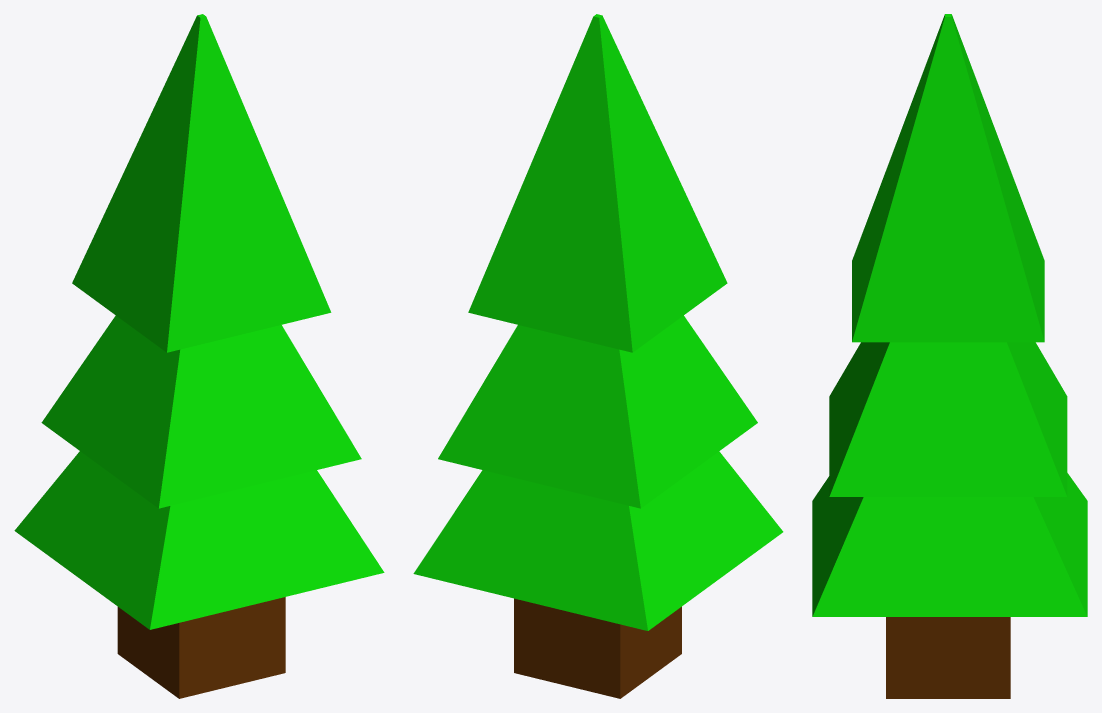
Rendered from Tree.fbx.
3 renders of one model, left to right at view 1: azimuth 30°, elevation 25°; view 2: azimuth 150°, elevation 25°; view 3: azimuth 270°, elevation 25°, orthographic.
Visible parts, largest first — view 1: Cube; view 2: Cube; view 3: Cube.
Boxes of the visible parts, left/top/right/bottom form: Cube: left=14, top=14, right=384, bottom=698; Cube: left=413, top=14, right=783, bottom=698; Cube: left=812, top=14, right=1087, bottom=698.
Bounding box in the file's own units: 49.32 × 130 × 49.32.
